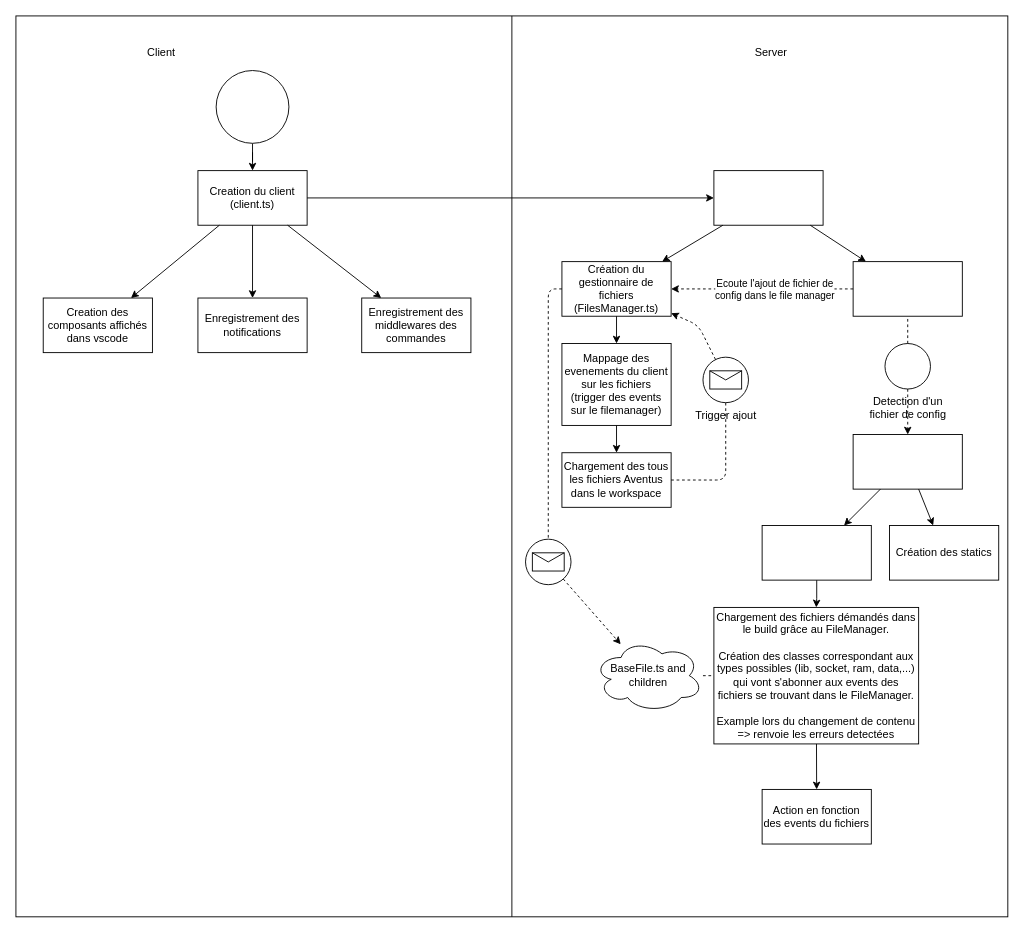
Some shapes in this 1024 by 934 pixel diagram are drawn without their labels. Each missing label, with the centre of its shape:
Creation du server (server.ts): the point at 768,197
Création d'un projet: the point at 907,461
Création des builds: the point at 816,552
Création du gestionnaire de projets (ProjectManager.ts): the point at 907,288
index.ts: the point at 252,106
Trigger : save, contentchange, format,... (all actions provided): the point at 548,561
